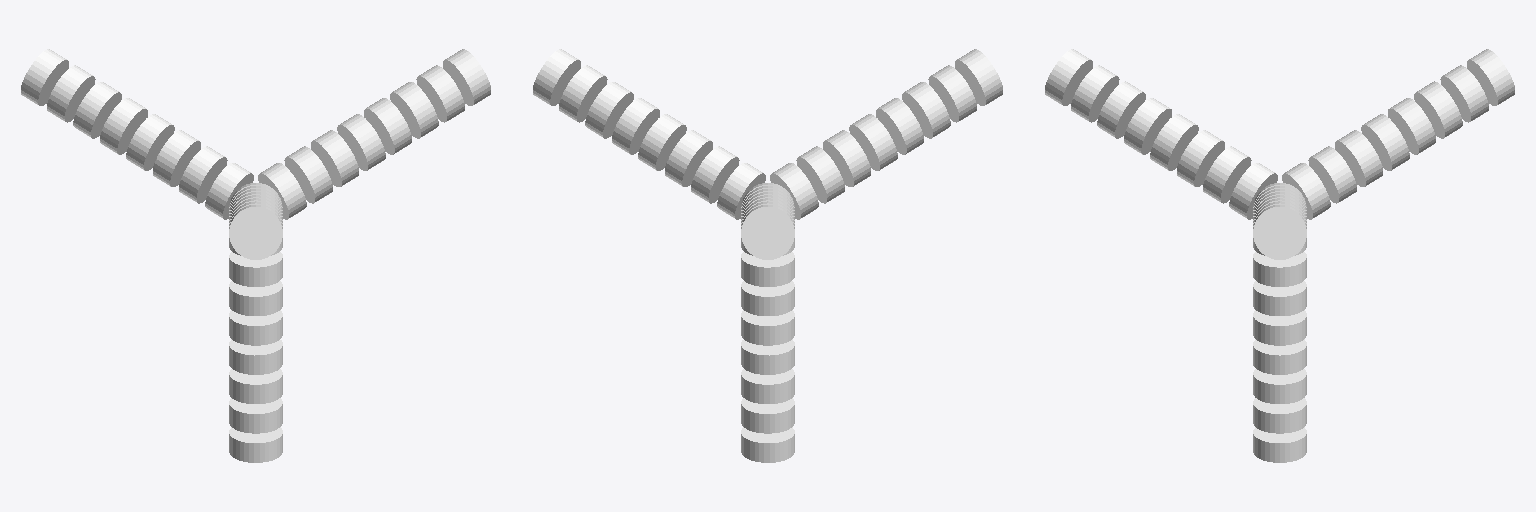
--- Facts derived from the render (not from the file) ---
The picture shows the robot from 3 angles, left to right: view 1: azimuth 30°, elevation 25°; view 2: azimuth 150°, elevation 25°; view 3: azimuth 270°, elevation 25°; orthographic projection.
Robot: tetra — 68 links, 67 joints (64 revolute, 3 fixed); root link carbon1; default pose: every joint at zero.
Visible links, largest first — view 1: weight32, weight11, weight19, weight14, weight22, weight16, weight24, weight13, weight21, weight10, weight18, weight12 (+12 smaller); view 2: weight24, weight11, weight27, weight14, weight30, weight16, weight32, weight13, weight29, weight10, weight26, weight12 (+12 smaller); view 3: weight16, weight19, weight22, weight27, weight30, weight24, weight32, weight20, weight21, weight28, weight29, weight23 (+12 smaller).
Boxes of the visible links, x1=… form: weight32: x1=229, y1=205, x2=282, y2=259; weight11: x1=311, y1=130, x2=358, y2=186; weight19: x1=153, y1=130, x2=200, y2=186; weight14: x1=390, y1=82, x2=438, y2=138; weight22: x1=73, y1=82, x2=121, y2=138; weight16: x1=443, y1=49, x2=490, y2=105; weight24: x1=21, y1=49, x2=68, y2=105; weight13: x1=364, y1=98, x2=411, y2=154; weight21: x1=100, y1=98, x2=147, y2=154; weight10: x1=284, y1=146, x2=332, y2=203; weight18: x1=179, y1=146, x2=227, y2=203; weight12: x1=337, y1=114, x2=385, y2=170; weight24: x1=741, y1=205, x2=794, y2=259; weight11: x1=665, y1=130, x2=712, y2=186; weight27: x1=823, y1=130, x2=870, y2=186; weight14: x1=585, y1=82, x2=633, y2=138; weight30: x1=902, y1=82, x2=950, y2=138; weight16: x1=533, y1=49, x2=580, y2=105; weight32: x1=955, y1=49, x2=1002, y2=105; weight13: x1=612, y1=98, x2=659, y2=154; weight29: x1=876, y1=98, x2=923, y2=154; weight10: x1=691, y1=146, x2=739, y2=203; weight26: x1=796, y1=146, x2=844, y2=203; weight12: x1=638, y1=114, x2=686, y2=170; weight16: x1=1253, y1=205, x2=1306, y2=259; weight19: x1=1335, y1=130, x2=1382, y2=186; weight22: x1=1414, y1=81, x2=1462, y2=138; weight27: x1=1177, y1=130, x2=1224, y2=186; weight30: x1=1097, y1=81, x2=1145, y2=138; weight24: x1=1467, y1=49, x2=1514, y2=105; weight32: x1=1045, y1=49, x2=1092, y2=105; weight20: x1=1361, y1=114, x2=1409, y2=170; weight21: x1=1388, y1=98, x2=1435, y2=154; weight28: x1=1150, y1=114, x2=1198, y2=170; weight29: x1=1124, y1=98, x2=1171, y2=154; weight23: x1=1440, y1=65, x2=1488, y2=122.
Bounding box of the posed robot: 1.92 × 2.19 × 1.78 m (x, y, z).
Meshes: 5 distinct files referenced, 32 mesh visuals loaded (5 OBJ).

URDF robot description (tetra):
<?xml version="1.0"?><robot name="tetra">
	<link name="carbon1">
		<inertial>
			<mass value="0.0001"/>
			<inertia izz="0" iyz="0" ixy="0" ixz="0" ixx="0" iyy="0"/>
		</inertial>
		<visual>
			<geometry>
				<box size="0.1 0.1 0.1"/>
			</geometry>
			<material name="magenta">
				<color rgba="1 0 1 1"/>
			</material>
		</visual>
	</link>
	<link name="carbon2">
		<inertial>
			<mass value="0.0001"/>
			<inertia izz="0" iyz="0" ixy="0" ixz="0" ixx="0" iyy="0"/>
		</inertial>
		<visual>
			<geometry>
				<box size="0.1 0.1 0.1"/>
			</geometry>
			<material name="magenta">
				<color rgba="1 0 1 1"/>
			</material>
		</visual>
	</link>
	<joint name="joint1" type="fixed">
		<parent link="carbon1"/>
		<child link="carbon2"/>
		<origin rpy="0 -1.910633236249 0" xyz="0 0 0"/>
	</joint>
	<link name="carbon3">
		<inertial>
			<mass value="0.0001"/>
			<inertia izz="0" iyz="0" ixy="0" ixz="0" ixx="0" iyy="0"/>
		</inertial>
		<visual>
			<geometry>
				<box size="0.1 0.1 0.1"/>
			</geometry>
			<material name="magenta">
				<color rgba="1 0 1 1"/>
			</material>
		</visual>
	</link>
	<joint name="joint2" type="fixed">
		<parent link="carbon1"/>
		<child link="carbon3"/>
		<origin rpy="0 -1.910633236249 2.0943951023932" xyz="0 0 0"/>
	</joint>
	<link name="carbon4">
		<inertial>
			<mass value="0.0001"/>
			<inertia izz="0" iyz="0" ixy="0" ixz="0" ixx="0" iyy="0"/>
		</inertial>
		<visual>
			<geometry>
				<box size="0.1 0.1 0.1"/>
			</geometry>
			<material name="magenta">
				<color rgba="1 0 1 1"/>
			</material>
		</visual>
	</link>
	<joint name="joint3" type="fixed">
		<parent link="carbon1"/>
		<child link="carbon4"/>
		<origin rpy="0 -1.910633236249 4.1887902047864" xyz="0 0 0"/>
	</joint>
	<link name="rot1">
		<inertial>
			<mass value="0"/>
			<inertia izz="0" iyz="0" ixy="0" ixz="0" ixx="0" iyy="0"/>
		</inertial>
	</link>
	<link name="weight1">
		<visual>
			<geometry>
				<mesh filename="walkman.obj" scale="0.41666666666667 0.41666666666667 1"/>
			</geometry>
			<material name="white">
				<color rgba="1 1 1 1"/>
			</material>
		</visual>
		<collision>
			<geometry>
				<mesh filename="walkman.obj" scale="0.41666666666667 0.41666666666667 1"/>
			</geometry>
		</collision>
		<inertial>
			<mass value="1"/>
			<inertia izz="0.045" iyz="0" ixy="0" ixz="0" ixx="0.023333333333333" iyy="0.023333333333333"/>
		</inertial>
	</link>
	<joint name="j1" type="revolute">
		<parent link="carbon1"/>
		<child link="rot1"/>
		<axis xyz="0 1 0"/>
		<limit effort="1000" velocity="0.5" lower="-0.39269908169872" upper="0.39269908169872"/>
		<origin rpy="0 0 0" xyz="0 0 -0.15"/>
	</joint>
	<joint name="j2" type="revolute">
		<parent link="rot1"/>
		<child link="weight1"/>
		<axis xyz="1 0 0"/>
		<limit effort="1000" velocity="3" lower="-0.39269908169872" upper="0.39269908169872"/>
	</joint>
	<link name="rot2">
		<inertial>
			<mass value="0"/>
			<inertia izz="0" iyz="0" ixy="0" ixz="0" ixx="0" iyy="0"/>
		</inertial>
	</link>
	<link name="weight2">
		<visual>
			<geometry>
				<mesh filename="walkman.obj" scale="0.41666666666667 0.41666666666667 1"/>
			</geometry>
			<material name="white">
				<color rgba="1 1 1 1"/>
			</material>
		</visual>
		<collision>
			<geometry>
				<mesh filename="walkman.obj" scale="0.41666666666667 0.41666666666667 1"/>
			</geometry>
		</collision>
		<inertial>
			<mass value="1"/>
			<inertia izz="0.045" iyz="0" ixy="0" ixz="0" ixx="0.023333333333333" iyy="0.023333333333333"/>
		</inertial>
	</link>
	<joint name="j3" type="revolute">
		<parent link="weight1"/>
		<child link="rot2"/>
		<axis xyz="0 1 0"/>
		<limit effort="1000" velocity="0.5" lower="-0.39269908169872" upper="0.39269908169872"/>
		<origin rpy="0 0 0" xyz="0 0 -0.15"/>
	</joint>
	<joint name="j4" type="revolute">
		<parent link="rot2"/>
		<child link="weight2"/>
		<axis xyz="1 0 0"/>
		<limit effort="1000" velocity="3" lower="-0.39269908169872" upper="0.39269908169872"/>
	</joint>
	<link name="rot3">
		<inertial>
			<mass value="0"/>
			<inertia izz="0" iyz="0" ixy="0" ixz="0" ixx="0" iyy="0"/>
		</inertial>
	</link>
	<link name="weight3">
		<visual>
			<geometry>
				<mesh filename="walkman.obj" scale="0.41666666666667 0.41666666666667 1"/>
			</geometry>
			<material name="white">
				<color rgba="1 1 1 1"/>
			</material>
		</visual>
		<collision>
			<geometry>
				<mesh filename="walkman.obj" scale="0.41666666666667 0.41666666666667 1"/>
			</geometry>
		</collision>
		<inertial>
			<mass value="1"/>
			<inertia izz="0.045" iyz="0" ixy="0" ixz="0" ixx="0.023333333333333" iyy="0.023333333333333"/>
		</inertial>
	</link>
	<joint name="j5" type="revolute">
		<parent link="weight2"/>
		<child link="rot3"/>
		<axis xyz="0 1 0"/>
		<limit effort="1000" velocity="0.5" lower="-0.39269908169872" upper="0.39269908169872"/>
		<origin rpy="0 0 0" xyz="0 0 -0.15"/>
	</joint>
	<joint name="j6" type="revolute">
		<parent link="rot3"/>
		<child link="weight3"/>
		<axis xyz="1 0 0"/>
		<limit effort="1000" velocity="3" lower="-0.39269908169872" upper="0.39269908169872"/>
	</joint>
	<link name="rot4">
		<inertial>
			<mass value="0"/>
			<inertia izz="0" iyz="0" ixy="0" ixz="0" ixx="0" iyy="0"/>
		</inertial>
	</link>
	<link name="weight4">
		<visual>
			<geometry>
				<mesh filename="walkman.obj" scale="0.41666666666667 0.41666666666667 1"/>
			</geometry>
			<material name="white">
				<color rgba="1 1 1 1"/>
			</material>
		</visual>
		<collision>
			<geometry>
				<mesh filename="walkman.obj" scale="0.41666666666667 0.41666666666667 1"/>
			</geometry>
		</collision>
		<inertial>
			<mass value="1"/>
			<inertia izz="0.045" iyz="0" ixy="0" ixz="0" ixx="0.023333333333333" iyy="0.023333333333333"/>
		</inertial>
	</link>
	<joint name="j7" type="revolute">
		<parent link="weight3"/>
		<child link="rot4"/>
		<axis xyz="0 1 0"/>
		<limit effort="1000" velocity="0.5" lower="-0.39269908169872" upper="0.39269908169872"/>
		<origin rpy="0 0 0" xyz="0 0 -0.15"/>
	</joint>
	<joint name="j8" type="revolute">
		<parent link="rot4"/>
		<child link="weight4"/>
		<axis xyz="1 0 0"/>
		<limit effort="1000" velocity="3" lower="-0.39269908169872" upper="0.39269908169872"/>
	</joint>
	<link name="rot5">
		<inertial>
			<mass value="0"/>
			<inertia izz="0" iyz="0" ixy="0" ixz="0" ixx="0" iyy="0"/>
		</inertial>
	</link>
	<link name="weight5">
		<visual>
			<geometry>
				<mesh filename="walkman.obj" scale="0.41666666666667 0.41666666666667 1"/>
			</geometry>
			<material name="white">
				<color rgba="1 1 1 1"/>
			</material>
		</visual>
		<collision>
			<geometry>
				<mesh filename="walkman.obj" scale="0.41666666666667 0.41666666666667 1"/>
			</geometry>
		</collision>
		<inertial>
			<mass value="1"/>
			<inertia izz="0.045" iyz="0" ixy="0" ixz="0" ixx="0.023333333333333" iyy="0.023333333333333"/>
		</inertial>
	</link>
	<joint name="j9" type="revolute">
		<parent link="weight4"/>
		<child link="rot5"/>
		<axis xyz="0 1 0"/>
		<limit effort="1000" velocity="0.5" lower="-0.39269908169872" upper="0.39269908169872"/>
		<origin rpy="0 0 0" xyz="0 0 -0.15"/>
	</joint>
	<joint name="j10" type="revolute">
		<parent link="rot5"/>
		<child link="weight5"/>
		<axis xyz="1 0 0"/>
		<limit effort="1000" velocity="3" lower="-0.39269908169872" upper="0.39269908169872"/>
	</joint>
	<link name="rot6">
		<inertial>
			<mass value="0"/>
			<inertia izz="0" iyz="0" ixy="0" ixz="0" ixx="0" iyy="0"/>
		</inertial>
	</link>
	<link name="weight6">
		<visual>
			<geometry>
				<mesh filename="walkman.obj" scale="0.41666666666667 0.41666666666667 1"/>
			</geometry>
			<material name="white">
				<color rgba="1 1 1 1"/>
			</material>
		</visual>
		<collision>
			<geometry>
				<mesh filename="walkman.obj" scale="0.41666666666667 0.41666666666667 1"/>
			</geometry>
		</collision>
		<inertial>
			<mass value="1"/>
			<inertia izz="0.045" iyz="0" ixy="0" ixz="0" ixx="0.023333333333333" iyy="0.023333333333333"/>
		</inertial>
	</link>
	<joint name="j11" type="revolute">
		<parent link="weight5"/>
		<child link="rot6"/>
		<axis xyz="0 1 0"/>
		<limit effort="1000" velocity="0.5" lower="-0.39269908169872" upper="0.39269908169872"/>
		<origin rpy="0 0 0" xyz="0 0 -0.15"/>
	</joint>
	<joint name="j12" type="revolute">
		<parent link="rot6"/>
		<child link="weight6"/>
		<axis xyz="1 0 0"/>
		<limit effort="1000" velocity="3" lower="-0.39269908169872" upper="0.39269908169872"/>
	</joint>
	<link name="rot7">
		<inertial>
			<mass value="0"/>
			<inertia izz="0" iyz="0" ixy="0" ixz="0" ixx="0" iyy="0"/>
		</inertial>
	</link>
	<link name="weight7">
		<visual>
			<geometry>
				<mesh filename="walkman.obj" scale="0.41666666666667 0.41666666666667 1"/>
			</geometry>
			<material name="white">
				<color rgba="1 1 1 1"/>
			</material>
		</visual>
		<collision>
			<geometry>
				<mesh filename="walkman.obj" scale="0.41666666666667 0.41666666666667 1"/>
			</geometry>
		</collision>
		<inertial>
			<mass value="1"/>
			<inertia izz="0.045" iyz="0" ixy="0" ixz="0" ixx="0.023333333333333" iyy="0.023333333333333"/>
		</inertial>
	</link>
	<joint name="j13" type="revolute">
		<parent link="weight6"/>
		<child link="rot7"/>
		<axis xyz="0 1 0"/>
		<limit effort="1000" velocity="0.5" lower="-0.39269908169872" upper="0.39269908169872"/>
		<origin rpy="0 0 0" xyz="0 0 -0.15"/>
	</joint>
	<joint name="j14" type="revolute">
		<parent link="rot7"/>
		<child link="weight7"/>
		<axis xyz="1 0 0"/>
		<limit effort="1000" velocity="3" lower="-0.39269908169872" upper="0.39269908169872"/>
	</joint>
	<link name="rot8">
		<inertial>
			<mass value="0"/>
			<inertia izz="0" iyz="0" ixy="0" ixz="0" ixx="0" iyy="0"/>
		</inertial>
	</link>
	<link name="weight8">
		<visual>
			<geometry>
				<mesh filename="walkman4.obj" scale="0.41666666666667 0.41666666666667 1"/>
			</geometry>
			<material name="white">
				<color rgba="1 1 1 1"/>
			</material>
		</visual>
		<collision>
			<geometry>
				<mesh filename="walkman4.obj" scale="0.41666666666667 0.41666666666667 1"/>
			</geometry>
		</collision>
		<inertial>
			<mass value="1"/>
			<inertia izz="0.045" iyz="0" ixy="0" ixz="0" ixx="0.023333333333333" iyy="0.023333333333333"/>
		</inertial>
	</link>
	<joint name="j15" type="revolute">
		<parent link="weight7"/>
		<child link="rot8"/>
		<axis xyz="0 1 0"/>
		<limit effort="1000" velocity="0.5" lower="-0.39269908169872" upper="0.39269908169872"/>
		<origin rpy="0 0 0" xyz="0 0 -0.15"/>
	</joint>
	<joint name="j16" type="revolute">
		<parent link="rot8"/>
		<child link="weight8"/>
		<axis xyz="1 0 0"/>
		<limit effort="1000" velocity="3" lower="-0.39269908169872" upper="0.39269908169872"/>
	</joint>
	<link name="rot9">
		<inertial>
			<mass value="0"/>
			<inertia izz="0" iyz="0" ixy="0" ixz="0" ixx="0" iyy="0"/>
		</inertial>
	</link>
	<link name="weight9">
		<visual>
			<geometry>
				<mesh filename="walkman.obj" scale="0.41666666666667 0.41666666666667 1"/>
			</geometry>
			<material name="white">
				<color rgba="1 1 1 1"/>
			</material>
		</visual>
		<collision>
			<geometry>
				<mesh filename="walkman.obj" scale="0.41666666666667 0.41666666666667 1"/>
			</geometry>
		</collision>
		<inertial>
			<mass value="1"/>
			<inertia izz="0.045" iyz="0" ixy="0" ixz="0" ixx="0.023333333333333" iyy="0.023333333333333"/>
		</inertial>
	</link>
	<joint name="j17" type="revolute">
		<parent link="carbon2"/>
		<child link="rot9"/>
		<axis xyz="0 1 0"/>
		<limit effort="1000" velocity="0.5" lower="-0.39269908169872" upper="0.39269908169872"/>
		<origin rpy="0 0 0" xyz="0 0 -0.15"/>
	</joint>
	<joint name="j18" type="revolute">
		<parent link="rot9"/>
		<child link="weight9"/>
		<axis xyz="1 0 0"/>
		<limit effort="1000" velocity="3" lower="-0.39269908169872" upper="0.39269908169872"/>
	</joint>
	<link name="rot10">
		<inertial>
			<mass value="0"/>
			<inertia izz="0" iyz="0" ixy="0" ixz="0" ixx="0" iyy="0"/>
		</inertial>
	</link>
	<link name="weight10">
		<visual>
			<geometry>
				<mesh filename="walkman.obj" scale="0.41666666666667 0.41666666666667 1"/>
			</geometry>
			<material name="white">
				<color rgba="1 1 1 1"/>
			</material>
		</visual>
		<collision>
			<geometry>
				<mesh filename="walkman.obj" scale="0.41666666666667 0.41666666666667 1"/>
			</geometry>
		</collision>
		<inertial>
			<mass value="1"/>
			<inertia izz="0.045" iyz="0" ixy="0" ixz="0" ixx="0.023333333333333" iyy="0.023333333333333"/>
		</inertial>
	</link>
	<joint name="j19" type="revolute">
		<parent link="weight9"/>
		<child link="rot10"/>
		<axis xyz="0 1 0"/>
		<limit effort="1000" velocity="0.5" lower="-0.39269908169872" upper="0.39269908169872"/>
		<origin rpy="0 0 0" xyz="0 0 -0.15"/>
	</joint>
	<joint name="j20" type="revolute">
		<parent link="rot10"/>
		<child link="weight10"/>
		<axis xyz="1 0 0"/>
		<limit effort="1000" velocity="3" lower="-0.39269908169872" upper="0.39269908169872"/>
	</joint>
	<link name="rot11">
		<inertial>
			<mass value="0"/>
			<inertia izz="0" iyz="0" ixy="0" ixz="0" ixx="0" iyy="0"/>
		</inertial>
	</link>
	<link name="weight11">
		<visual>
			<geometry>
				<mesh filename="walkman.obj" scale="0.41666666666667 0.41666666666667 1"/>
			</geometry>
			<material name="white">
				<color rgba="1 1 1 1"/>
			</material>
		</visual>
		<collision>
			<geometry>
				<mesh filename="walkman.obj" scale="0.41666666666667 0.41666666666667 1"/>
			</geometry>
		</collision>
		<inertial>
			<mass value="1"/>
			<inertia izz="0.045" iyz="0" ixy="0" ixz="0" ixx="0.023333333333333" iyy="0.023333333333333"/>
		</inertial>
	</link>
	<joint name="j21" type="revolute">
		<parent link="weight10"/>
		<child link="rot11"/>
		<axis xyz="0 1 0"/>
		<limit effort="1000" velocity="0.5" lower="-0.39269908169872" upper="0.39269908169872"/>
		<origin rpy="0 0 0" xyz="0 0 -0.15"/>
	</joint>
	<joint name="j22" type="revolute">
		<parent link="rot11"/>
		<child link="weight11"/>
		<axis xyz="1 0 0"/>
		<limit effort="1000" velocity="3" lower="-0.39269908169872" upper="0.39269908169872"/>
	</joint>
	<link name="rot12">
		<inertial>
			<mass value="0"/>
			<inertia izz="0" iyz="0" ixy="0" ixz="0" ixx="0" iyy="0"/>
		</inertial>
	</link>
	<link name="weight12">
		<visual>
			<geometry>
				<mesh filename="walkman.obj" scale="0.41666666666667 0.41666666666667 1"/>
			</geometry>
			<material name="white">
				<color rgba="1 1 1 1"/>
			</material>
		</visual>
		<collision>
			<geometry>
				<mesh filename="walkman.obj" scale="0.41666666666667 0.41666666666667 1"/>
			</geometry>
		</collision>
		<inertial>
			<mass value="1"/>
			<inertia izz="0.045" iyz="0" ixy="0" ixz="0" ixx="0.023333333333333" iyy="0.023333333333333"/>
		</inertial>
	</link>
	<joint name="j23" type="revolute">
		<parent link="weight11"/>
		<child link="rot12"/>
		<axis xyz="0 1 0"/>
		<limit effort="1000" velocity="0.5" lower="-0.39269908169872" upper="0.39269908169872"/>
		<origin rpy="0 0 0" xyz="0 0 -0.15"/>
	</joint>
	<joint name="j24" type="revolute">
		<parent link="rot12"/>
		<child link="weight12"/>
		<axis xyz="1 0 0"/>
		<limit effort="1000" velocity="3" lower="-0.39269908169872" upper="0.39269908169872"/>
	</joint>
	<link name="rot13">
		<inertial>
			<mass value="0"/>
			<inertia izz="0" iyz="0" ixy="0" ixz="0" ixx="0" iyy="0"/>
		</inertial>
	</link>
	<link name="weight13">
		<visual>
			<geometry>
				<mesh filename="walkman.obj" scale="0.41666666666667 0.41666666666667 1"/>
			</geometry>
			<material name="white">
				<color rgba="1 1 1 1"/>
			</material>
		</visual>
		<collision>
			<geometry>
				<mesh filename="walkman.obj" scale="0.41666666666667 0.41666666666667 1"/>
			</geometry>
		</collision>
		<inertial>
			<mass value="1"/>
			<inertia izz="0.045" iyz="0" ixy="0" ixz="0" ixx="0.023333333333333" iyy="0.023333333333333"/>
		</inertial>
	</link>
	<joint name="j25" type="revolute">
		<parent link="weight12"/>
		<child link="rot13"/>
		<axis xyz="0 1 0"/>
		<limit effort="1000" velocity="0.5" lower="-0.39269908169872" upper="0.39269908169872"/>
		<origin rpy="0 0 0" xyz="0 0 -0.15"/>
	</joint>
	<joint name="j26" type="revolute">
		<parent link="rot13"/>
		<child link="weight13"/>
		<axis xyz="1 0 0"/>
		<limit effort="1000" velocity="3" lower="-0.39269908169872" upper="0.39269908169872"/>
	</joint>
	<link name="rot14">
		<inertial>
			<mass value="0"/>
			<inertia izz="0" iyz="0" ixy="0" ixz="0" ixx="0" iyy="0"/>
		</inertial>
	</link>
	<link name="weight14">
		<visual>
			<geometry>
				<mesh filename="walkman.obj" scale="0.41666666666667 0.41666666666667 1"/>
			</geometry>
			<material name="white">
				<color rgba="1 1 1 1"/>
			</material>
		</visual>
		<collision>
			<geometry>
				<mesh filename="walkman.obj" scale="0.41666666666667 0.41666666666667 1"/>
			</geometry>
		</collision>
		<inertial>
			<mass value="1"/>
			<inertia izz="0.045" iyz="0" ixy="0" ixz="0" ixx="0.023333333333333" iyy="0.023333333333333"/>
		</inertial>
	</link>
	<joint name="j27" type="revolute">
		<parent link="weight13"/>
		<child link="rot14"/>
		<axis xyz="0 1 0"/>
		<limit effort="1000" velocity="0.5" lower="-0.39269908169872" upper="0.39269908169872"/>
		<origin rpy="0 0 0" xyz="0 0 -0.15"/>
	</joint>
	<joint name="j28" type="revolute">
		<parent link="rot14"/>
		<child link="weight14"/>
		<axis xyz="1 0 0"/>
		<limit effort="1000" velocity="3" lower="-0.39269908169872" upper="0.39269908169872"/>
	</joint>
	<link name="rot15">
		<inertial>
			<mass value="0"/>
			<inertia izz="0" iyz="0" ixy="0" ixz="0" ixx="0" iyy="0"/>
		</inertial>
	</link>
	<link name="weight15">
		<visual>
			<geometry>
				<mesh filename="walkman.obj" scale="0.41666666666667 0.41666666666667 1"/>
			</geometry>
			<material name="white">
				<color rgba="1 1 1 1"/>
			</material>
		</visual>
		<collision>
			<geometry>
				<mesh filename="walkman.obj" scale="0.41666666666667 0.41666666666667 1"/>
			</geometry>
		</collision>
		<inertial>
			<mass value="1"/>
			<inertia izz="0.045" iyz="0" ixy="0" ixz="0" ixx="0.023333333333333" iyy="0.023333333333333"/>
		</inertial>
	</link>
	<joint name="j29" type="revolute">
		<parent link="weight14"/>
		<child link="rot15"/>
		<axis xyz="0 1 0"/>
		<limit effort="1000" velocity="0.5" lower="-0.39269908169872" upper="0.39269908169872"/>
		<origin rpy="0 0 0" xyz="0 0 -0.15"/>
	</joint>
	<joint name="j30" type="revolute">
		<parent link="rot15"/>
		<child link="weight15"/>
		<axis xyz="1 0 0"/>
		<limit effort="1000" velocity="3" lower="-0.39269908169872" upper="0.39269908169872"/>
	</joint>
	<link name="rot16">
		<inertial>
			<mass value="0"/>
			<inertia izz="0" iyz="0" ixy="0" ixz="0" ixx="0" iyy="0"/>
		</inertial>
	</link>
	<link name="weight16">
		<visual>
			<geometry>
				<mesh filename="walkman3.obj" scale="0.41666666666667 0.41666666666667 1"/>
			</geometry>
			<material name="white">
				<color rgba="1 1 1 1"/>
			</material>
		</visual>
		<collision>
			<geometry>
				<mesh filename="walkman3.obj" scale="0.41666666666667 0.41666666666667 1"/>
			</geometry>
		</collision>
		<inertial>
			<mass value="1"/>
			<inertia izz="0.045" iyz="0" ixy="0" ixz="0" ixx="0.023333333333333" iyy="0.023333333333333"/>
		</inertial>
	</link>
	<joint name="j31" type="revolute">
		<parent link="weight15"/>
		<child link="rot16"/>
		<axis xyz="0 1 0"/>
		<limit effort="1000" velocity="0.5" lower="-0.39269908169872" upper="0.39269908169872"/>
		<origin rpy="0 0 0" xyz="0 0 -0.15"/>
	</joint>
	<joint name="j32" type="revolute">
		<parent link="rot16"/>
		<child link="weight16"/>
		<axis xyz="1 0 0"/>
		<limit effort="1000" velocity="3" lower="-0.39269908169872" upper="0.39269908169872"/>
	</joint>
	<link name="rot17">
		<inertial>
			<mass value="0"/>
			<inertia izz="0" iyz="0" ixy="0" ixz="0" ixx="0" iyy="0"/>
		</inertial>
	</link>
	<link name="weight17">
		<visual>
			<geometry>
				<mesh filename="walkman.obj" scale="0.41666666666667 0.41666666666667 1"/>
			</geometry>
			<material name="white">
				<color rgba="1 1 1 1"/>
			</material>
		</visual>
		<collision>
			<geometry>
				<mesh filename="walkman.obj" scale="0.41666666666667 0.41666666666667 1"/>
			</geometry>
		</collision>
		<inertial>
			<mass value="1"/>
			<inertia izz="0.045" iyz="0" ixy="0" ixz="0" ixx="0.023333333333333" iyy="0.023333333333333"/>
		</inertial>
	</link>
	<joint name="j33" type="revolute">
		<parent link="carbon3"/>
		<child link="rot17"/>
		<axis xyz="0 1 0"/>
		<limit effort="1000" velocity="0.5" lower="-0.39269908169872" upper="0.39269908169872"/>
		<origin rpy="0 0 0" xyz="0 0 -0.15"/>
	</joint>
	<joint name="j34" type="revolute">
		<parent link="rot17"/>
		<child link="weight17"/>
		<axis xyz="1 0 0"/>
		<limit effort="1000" velocity="3" lower="-0.39269908169872" upper="0.39269908169872"/>
	</joint>
	<link name="rot18">
		<inertial>
			<mass value="0"/>
			<inertia izz="0" iyz="0" ixy="0" ixz="0" ixx="0" iyy="0"/>
		</inertial>
	</link>
	<link name="weight18">
		<visual>
			<geometry>
				<mesh filename="walkman.obj" scale="0.41666666666667 0.41666666666667 1"/>
			</geometry>
			<material name="white">
				<color rgba="1 1 1 1"/>
			</material>
		</visual>
		<collision>
			<geometry>
				<mesh filename="walkman.obj" scale="0.41666666666667 0.41666666666667 1"/>
			</geometry>
		</collision>
		<inertial>
			<mass value="1"/>
			<inertia izz="0.045" iyz="0" ixy="0" ixz="0" ixx="0.023333333333333" iyy="0.023333333333333"/>
		</inertial>
	</link>
	<joint name="j35" type="revolute">
		<parent link="weight17"/>
		<child link="rot18"/>
		<axis xyz="0 1 0"/>
		<limit effort="1000" velocity="0.5" lower="-0.39269908169872" upper="0.39269908169872"/>
		<origin rpy="0 0 0" xyz="0 0 -0.15"/>
	</joint>
	<joint name="j36" type="revolute">
		<parent link="rot18"/>
		<child link="weight18"/>
		<axis xyz="1 0 0"/>
		<limit effort="1000" velocity="3" lower="-0.39269908169872" upper="0.39269908169872"/>
	</joint>
	<link name="rot19">
		<inertial>
			<mass value="0"/>
			<inertia izz="0" iyz="0" ixy="0" ixz="0" ixx="0" iyy="0"/>
		</inertial>
	</link>
	<link name="weight19">
		<visual>
			<geometry>
				<mesh filename="walkman.obj" scale="0.41666666666667 0.41666666666667 1"/>
			</geometry>
			<material name="white">
				<color rgba="1 1 1 1"/>
			</material>
		</visual>
		<collision>
			<geometry>
				<mesh filename="walkman.obj" scale="0.41666666666667 0.41666666666667 1"/>
			</geometry>
		</collision>
		<inertial>
			<mass value="1"/>
			<inertia izz="0.045" iyz="0" ixy="0" ixz="0" ixx="0.023333333333333" iyy="0.023333333333333"/>
		</inertial>
	</link>
	<joint name="j37" type="revolute">
		<parent link="weight18"/>
		<child link="rot19"/>
		<axis xyz="0 1 0"/>
		<limit effort="1000" velocity="0.5" lower="-0.39269908169872" upper="0.39269908169872"/>
		<origin rpy="0 0 0" xyz="0 0 -0.15"/>
	</joint>
	<joint name="j38" type="revolute">
		<parent link="rot19"/>
		<child link="weight19"/>
		<axis xyz="1 0 0"/>
		<limit effort="1000" velocity="3" lower="-0.39269908169872" upper="0.39269908169872"/>
	</joint>
	<link name="rot20">
		<inertial>
			<mass value="0"/>
			<inertia izz="0" iyz="0" ixy="0" ixz="0" ixx="0" iyy="0"/>
		</inertial>
	</link>
	<link name="weight20">
		<visual>
			<geometry>
				<mesh filename="walkman.obj" scale="0.41666666666667 0.41666666666667 1"/>
			</geometry>
			<material name="white">
				<color rgba="1 1 1 1"/>
			</material>
		</visual>
		<collision>
			<geometry>
				<mesh filename="walkman.obj" scale="0.41666666666667 0.41666666666667 1"/>
			</geometry>
		</collision>
		<inertial>
			<mass value="1"/>
			<inertia izz="0.045" iyz="0" ixy="0" ixz="0" ixx="0.023333333333333" iyy="0.023333333333333"/>
		</inertial>
	</link>
	<joint name="j39" type="revolute">
		<parent link="weight19"/>
		<child link="rot20"/>
		<axis xyz="0 1 0"/>
		<limit effort="1000" velocity="0.5" lower="-0.39269908169872" upper="0.39269908169872"/>
		<origin rpy="0 0 0" xyz="0 0 -0.15"/>
	</joint>
	<joint name="j40" type="revolute">
		<parent link="rot20"/>
		<child link="weight20"/>
		<axis xyz="1 0 0"/>
		<limit effort="1000" velocity="3" lower="-0.39269908169872" upper="0.39269908169872"/>
	</joint>
	<link name="rot21">
		<inertial>
			<mass value="0"/>
			<inertia izz="0" iyz="0" ixy="0" ixz="0" ixx="0" iyy="0"/>
		</inertial>
	</link>
	<link name="weight21">
		<visual>
			<geometry>
				<mesh filename="walkman.obj" scale="0.41666666666667 0.41666666666667 1"/>
			</geometry>
			<material name="white">
				<color rgba="1 1 1 1"/>
			</material>
		</visual>
		<collision>
			<geometry>
				<mesh filename="walkman.obj" scale="0.41666666666667 0.41666666666667 1"/>
			</geometry>
		</collision>
		<inertial>
			<mass value="1"/>
			<inertia izz="0.045" iyz="0" ixy="0" ixz="0" ixx="0.023333333333333" iyy="0.023333333333333"/>
		</inertial>
	</link>
	<joint name="j41" type="revolute">
		<parent link="weight20"/>
		<child link="rot21"/>
		<axis xyz="0 1 0"/>
		<limit effort="1000" velocity="0.5" lower="-0.39269908169872" upper="0.39269908169872"/>
		<origin rpy="0 0 0" xyz="0 0 -0.15"/>
	</joint>
	<joint name="j42" type="revolute">
		<parent link="rot21"/>
		<child link="weight21"/>
		<axis xyz="1 0 0"/>
		<limit effort="1000" velocity="3" lower="-0.39269908169872" upper="0.39269908169872"/>
	</joint>
	<link name="rot22">
		<inertial>
			<mass value="0"/>
			<inertia izz="0" iyz="0" ixy="0" ixz="0" ixx="0" iyy="0"/>
		</inertial>
	</link>
	<link name="weight22">
		<visual>
			<geometry>
				<mesh filename="walkman.obj" scale="0.41666666666667 0.41666666666667 1"/>
			</geometry>
			<material name="white">
				<color rgba="1 1 1 1"/>
			</material>
		</visual>
		<collision>
			<geometry>
				<mesh filename="walkman.obj" scale="0.41666666666667 0.41666666666667 1"/>
			</geometry>
		</collision>
		<inertial>
			<mass value="1"/>
			<inertia izz="0.045" iyz="0" ixy="0" ixz="0" ixx="0.023333333333333" iyy="0.023333333333333"/>
		</inertial>
	</link>
	<joint name="j43" type="revolute">
		<parent link="weight21"/>
		<child link="rot22"/>
		<axis xyz="0 1 0"/>
		<limit effort="1000" velocity="0.5" lower="-0.39269908169872" upper="0.39269908169872"/>
		<origin rpy="0 0 0" xyz="0 0 -0.15"/>
	</joint>
	<joint name="j44" type="revolute">
		<parent link="rot22"/>
		<child link="weight22"/>
		<axis xyz="1 0 0"/>
		<limit effort="1000" velocity="3" lower="-0.39269908169872" upper="0.39269908169872"/>
	</joint>
	<link name="rot23">
		<inertial>
			<mass value="0"/>
			<inertia izz="0" iyz="0" ixy="0" ixz="0" ixx="0" iyy="0"/>
		</inertial>
	</link>
	<link name="weight23">
		<visual>
			<geometry>
				<mesh filename="walkman.obj" scale="0.41666666666667 0.41666666666667 1"/>
			</geometry>
			<material name="white">
				<color rgba="1 1 1 1"/>
			</material>
		</visual>
		<collision>
			<geometry>
				<mesh filename="walkman.obj" scale="0.41666666666667 0.41666666666667 1"/>
			</geometry>
		</collision>
		<inertial>
			<mass value="1"/>
			<inertia izz="0.045" iyz="0" ixy="0" ixz="0" ixx="0.023333333333333" iyy="0.023333333333333"/>
		</inertial>
	</link>
	<joint name="j45" type="revolute">
		<parent link="weight22"/>
		<child link="rot23"/>
		<axis xyz="0 1 0"/>
		<limit effort="1000" velocity="0.5" lower="-0.39269908169872" upper="0.39269908169872"/>
		<origin rpy="0 0 0" xyz="0 0 -0.15"/>
	</joint>
	<joint name="j46" type="revolute">
		<parent link="rot23"/>
		<child link="weight23"/>
		<axis xyz="1 0 0"/>
		<limit effort="1000" velocity="3" lower="-0.39269908169872" upper="0.39269908169872"/>
	</joint>
	<link name="rot24">
		<inertial>
			<mass value="0"/>
			<inertia izz="0" iyz="0" ixy="0" ixz="0" ixx="0" iyy="0"/>
		</inertial>
	</link>
	<link name="weight24">
		<visual>
			<geometry>
				<mesh filename="walkman5.obj" scale="0.41666666666667 0.41666666666667 1"/>
			</geometry>
			<material name="white">
				<color rgba="1 1 1 1"/>
			</material>
		</visual>
		<collision>
			<geometry>
				<mesh filename="walkman5.obj" scale="0.41666666666667 0.41666666666667 1"/>
			</geometry>
		</collision>
		<inertial>
			<mass value="1"/>
			<inertia izz="0.045" iyz="0" ixy="0" ixz="0" ixx="0.023333333333333" iyy="0.023333333333333"/>
		</inertial>
	</link>
	<joint name="j47" type="revolute">
		<parent link="weight23"/>
		<child link="rot24"/>
		<axis xyz="0 1 0"/>
		<limit effort="1000" velocity="0.5" lower="-0.39269908169872" upper="0.39269908169872"/>
		<origin rpy="0 0 0" xyz="0 0 -0.15"/>
	</joint>
	<joint name="j48" type="revolute">
		<parent link="rot24"/>
		<child link="weight24"/>
		<axis xyz="1 0 0"/>
		<limit effort="1000" velocity="3" lower="-0.39269908169872" upper="0.39269908169872"/>
	</joint>
	<link name="rot25">
		<inertial>
			<mass value="0"/>
			<inertia izz="0" iyz="0" ixy="0" ixz="0" ixx="0" iyy="0"/>
		</inertial>
	</link>
	<link name="weight25">
		<visual>
			<geometry>
				<mesh filename="walkman.obj" scale="0.41666666666667 0.41666666666667 1"/>
			</geometry>
			<material name="white">
				<color rgba="1 1 1 1"/>
			</material>
		</visual>
		<collision>
			<geometry>
				<mesh filename="walkman.obj" scale="0.41666666666667 0.41666666666667 1"/>
			</geometry>
		</collision>
		<inertial>
			<mass value="1"/>
			<inertia izz="0.045" iyz="0" ixy="0" ixz="0" ixx="0.023333333333333" iyy="0.023333333333333"/>
		</inertial>
	</link>
	<joint name="j49" type="revolute">
		<parent link="carbon4"/>
		<child link="rot25"/>
		<axis xyz="0 1 0"/>
		<limit effort="1000" velocity="0.5" lower="-0.39269908169872" upper="0.39269908169872"/>
		<origin rpy="0 0 0" xyz="0 0 -0.15"/>
	</joint>
	<joint name="j50" type="revolute">
		<parent link="rot25"/>
		<child link="weight25"/>
		<axis xyz="1 0 0"/>
		<limit effort="1000" velocity="3" lower="-0.39269908169872" upper="0.39269908169872"/>
	</joint>
	<link name="rot26">
		<inertial>
			<mass value="0"/>
			<inertia izz="0" iyz="0" ixy="0" ixz="0" ixx="0" iyy="0"/>
		</inertial>
	</link>
	<link name="weight26">
		<visual>
			<geometry>
				<mesh filename="walkman.obj" scale="0.41666666666667 0.41666666666667 1"/>
			</geometry>
			<material name="white">
				<color rgba="1 1 1 1"/>
			</material>
		</visual>
		<collision>
			<geometry>
				<mesh filename="walkman.obj" scale="0.41666666666667 0.41666666666667 1"/>
			</geometry>
		</collision>
		<inertial>
			<mass value="1"/>
			<inertia izz="0.045" iyz="0" ixy="0" ixz="0" ixx="0.023333333333333" iyy="0.023333333333333"/>
		</inertial>
	</link>
	<joint name="j51" type="revolute">
		<parent link="weight25"/>
		<child link="rot26"/>
		<axis xyz="0 1 0"/>
		<limit effort="1000" velocity="0.5" lower="-0.39269908169872" upper="0.39269908169872"/>
		<origin rpy="0 0 0" xyz="0 0 -0.15"/>
	</joint>
	<joint name="j52" type="revolute">
		<parent link="rot26"/>
		<child link="weight26"/>
		<axis xyz="1 0 0"/>
		<limit effort="1000" velocity="3" lower="-0.39269908169872" upper="0.39269908169872"/>
	</joint>
	<link name="rot27">
		<inertial>
			<mass value="0"/>
			<inertia izz="0" iyz="0" ixy="0" ixz="0" ixx="0" iyy="0"/>
		</inertial>
	</link>
	<link name="weight27">
		<visual>
			<geometry>
				<mesh filename="walkman.obj" scale="0.41666666666667 0.41666666666667 1"/>
			</geometry>
			<material name="white">
				<color rgba="1 1 1 1"/>
			</material>
		</visual>
		<collision>
			<geometry>
				<mesh filename="walkman.obj" scale="0.41666666666667 0.41666666666667 1"/>
			</geometry>
		</collision>
		<inertial>
			<mass value="1"/>
			<inertia izz="0.045" iyz="0" ixy="0" ixz="0" ixx="0.023333333333333" iyy="0.023333333333333"/>
		</inertial>
	</link>
	<joint name="j53" type="revolute">
		<parent link="weight26"/>
		<child link="rot27"/>
		<axis xyz="0 1 0"/>
		<limit effort="1000" velocity="0.5" lower="-0.39269908169872" upper="0.39269908169872"/>
		<origin rpy="0 0 0" xyz="0 0 -0.15"/>
	</joint>
	<joint name="j54" type="revolute">
		<parent link="rot27"/>
		<child link="weight27"/>
		<axis xyz="1 0 0"/>
		<limit effort="1000" velocity="3" lower="-0.39269908169872" upper="0.39269908169872"/>
	</joint>
	<link name="rot28">
		<inertial>
			<mass value="0"/>
			<inertia izz="0" iyz="0" ixy="0" ixz="0" ixx="0" iyy="0"/>
		</inertial>
	</link>
	<link name="weight28">
		<visual>
			<geometry>
				<mesh filename="walkman.obj" scale="0.41666666666667 0.41666666666667 1"/>
			</geometry>
			<material name="white">
				<color rgba="1 1 1 1"/>
			</material>
		</visual>
		<collision>
			<geometry>
				<mesh filename="walkman.obj" scale="0.41666666666667 0.41666666666667 1"/>
			</geometry>
		</collision>
		<inertial>
			<mass value="1"/>
			<inertia izz="0.045" iyz="0" ixy="0" ixz="0" ixx="0.023333333333333" iyy="0.023333333333333"/>
		</inertial>
	</link>
	<joint name="j55" type="revolute">
		<parent link="weight27"/>
		<child link="rot28"/>
		<axis xyz="0 1 0"/>
		<limit effort="1000" velocity="0.5" lower="-0.39269908169872" upper="0.39269908169872"/>
		<origin rpy="0 0 0" xyz="0 0 -0.15"/>
	</joint>
	<joint name="j56" type="revolute">
		<parent link="rot28"/>
		<child link="weight28"/>
		<axis xyz="1 0 0"/>
		<limit effort="1000" velocity="3" lower="-0.39269908169872" upper="0.39269908169872"/>
	</joint>
	<link name="rot29">
		<inertial>
			<mass value="0"/>
			<inertia izz="0" iyz="0" ixy="0" ixz="0" ixx="0" iyy="0"/>
		</inertial>
	</link>
	<link name="weight29">
		<visual>
			<geometry>
				<mesh filename="walkman.obj" scale="0.41666666666667 0.41666666666667 1"/>
			</geometry>
			<material name="white">
				<color rgba="1 1 1 1"/>
			</material>
		</visual>
		<collision>
			<geometry>
				<mesh filename="walkman.obj" scale="0.41666666666667 0.41666666666667 1"/>
			</geometry>
		</collision>
		<inertial>
			<mass value="1"/>
			<inertia izz="0.045" iyz="0" ixy="0" ixz="0" ixx="0.023333333333333" iyy="0.023333333333333"/>
		</inertial>
	</link>
	<joint name="j57" type="revolute">
		<parent link="weight28"/>
		<child link="rot29"/>
		<axis xyz="0 1 0"/>
		<limit effort="1000" velocity="0.5" lower="-0.39269908169872" upper="0.39269908169872"/>
		<origin rpy="0 0 0" xyz="0 0 -0.15"/>
	</joint>
	<joint name="j58" type="revolute">
		<parent link="rot29"/>
		<child link="weight29"/>
		<axis xyz="1 0 0"/>
		<limit effort="1000" velocity="3" lower="-0.39269908169872" upper="0.39269908169872"/>
	</joint>
	<link name="rot30">
		<inertial>
			<mass value="0"/>
			<inertia izz="0" iyz="0" ixy="0" ixz="0" ixx="0" iyy="0"/>
		</inertial>
	</link>
	<link name="weight30">
		<visual>
			<geometry>
				<mesh filename="walkman.obj" scale="0.41666666666667 0.41666666666667 1"/>
			</geometry>
			<material name="white">
				<color rgba="1 1 1 1"/>
			</material>
		</visual>
		<collision>
			<geometry>
				<mesh filename="walkman.obj" scale="0.41666666666667 0.41666666666667 1"/>
			</geometry>
		</collision>
		<inertial>
			<mass value="1"/>
			<inertia izz="0.045" iyz="0" ixy="0" ixz="0" ixx="0.023333333333333" iyy="0.023333333333333"/>
		</inertial>
	</link>
	<joint name="j59" type="revolute">
		<parent link="weight29"/>
		<child link="rot30"/>
		<axis xyz="0 1 0"/>
		<limit effort="1000" velocity="0.5" lower="-0.39269908169872" upper="0.39269908169872"/>
		<origin rpy="0 0 0" xyz="0 0 -0.15"/>
	</joint>
	<joint name="j60" type="revolute">
		<parent link="rot30"/>
		<child link="weight30"/>
		<axis xyz="1 0 0"/>
		<limit effort="1000" velocity="3" lower="-0.39269908169872" upper="0.39269908169872"/>
	</joint>
	<link name="rot31">
		<inertial>
			<mass value="0"/>
			<inertia izz="0" iyz="0" ixy="0" ixz="0" ixx="0" iyy="0"/>
		</inertial>
	</link>
	<link name="weight31">
		<visual>
			<geometry>
				<mesh filename="walkman.obj" scale="0.41666666666667 0.41666666666667 1"/>
			</geometry>
			<material name="white">
				<color rgba="1 1 1 1"/>
			</material>
		</visual>
		<collision>
			<geometry>
				<mesh filename="walkman.obj" scale="0.41666666666667 0.41666666666667 1"/>
			</geometry>
		</collision>
		<inertial>
			<mass value="1"/>
			<inertia izz="0.045" iyz="0" ixy="0" ixz="0" ixx="0.023333333333333" iyy="0.023333333333333"/>
		</inertial>
	</link>
	<joint name="j61" type="revolute">
		<parent link="weight30"/>
		<child link="rot31"/>
		<axis xyz="0 1 0"/>
		<limit effort="1000" velocity="0.5" lower="-0.39269908169872" upper="0.39269908169872"/>
		<origin rpy="0 0 0" xyz="0 0 -0.15"/>
	</joint>
	<joint name="j62" type="revolute">
		<parent link="rot31"/>
		<child link="weight31"/>
		<axis xyz="1 0 0"/>
		<limit effort="1000" velocity="3" lower="-0.39269908169872" upper="0.39269908169872"/>
	</joint>
	<link name="rot32">
		<inertial>
			<mass value="0"/>
			<inertia izz="0" iyz="0" ixy="0" ixz="0" ixx="0" iyy="0"/>
		</inertial>
	</link>
	<link name="weight32">
		<visual>
			<geometry>
				<mesh filename="walkman6.obj" scale="0.41666666666667 0.41666666666667 1"/>
			</geometry>
			<material name="white">
				<color rgba="1 1 1 1"/>
			</material>
		</visual>
		<collision>
			<geometry>
				<mesh filename="walkman6.obj" scale="0.41666666666667 0.41666666666667 1"/>
			</geometry>
		</collision>
		<inertial>
			<mass value="1"/>
			<inertia izz="0.045" iyz="0" ixy="0" ixz="0" ixx="0.023333333333333" iyy="0.023333333333333"/>
		</inertial>
	</link>
	<joint name="j63" type="revolute">
		<parent link="weight31"/>
		<child link="rot32"/>
		<axis xyz="0 1 0"/>
		<limit effort="1000" velocity="0.5" lower="-0.39269908169872" upper="0.39269908169872"/>
		<origin rpy="0 0 0" xyz="0 0 -0.15"/>
	</joint>
	<joint name="j64" type="revolute">
		<parent link="rot32"/>
		<child link="weight32"/>
		<axis xyz="1 0 0"/>
		<limit effort="1000" velocity="3" lower="-0.39269908169872" upper="0.39269908169872"/>
	</joint>
</robot>
